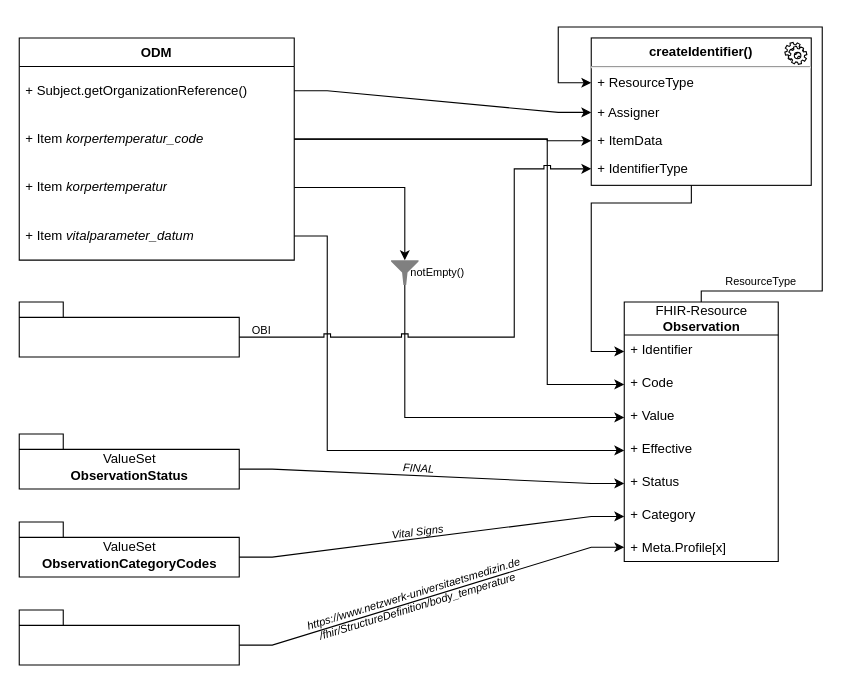
Some shapes in this 850 by 684 pixel diagram are drawn without their labels. The centre of each missing label's shape, as x and y in pixels:
GECCO Profiles: point (128, 637)
ValueSet IdentifierTypeCodes: point (128, 329)
